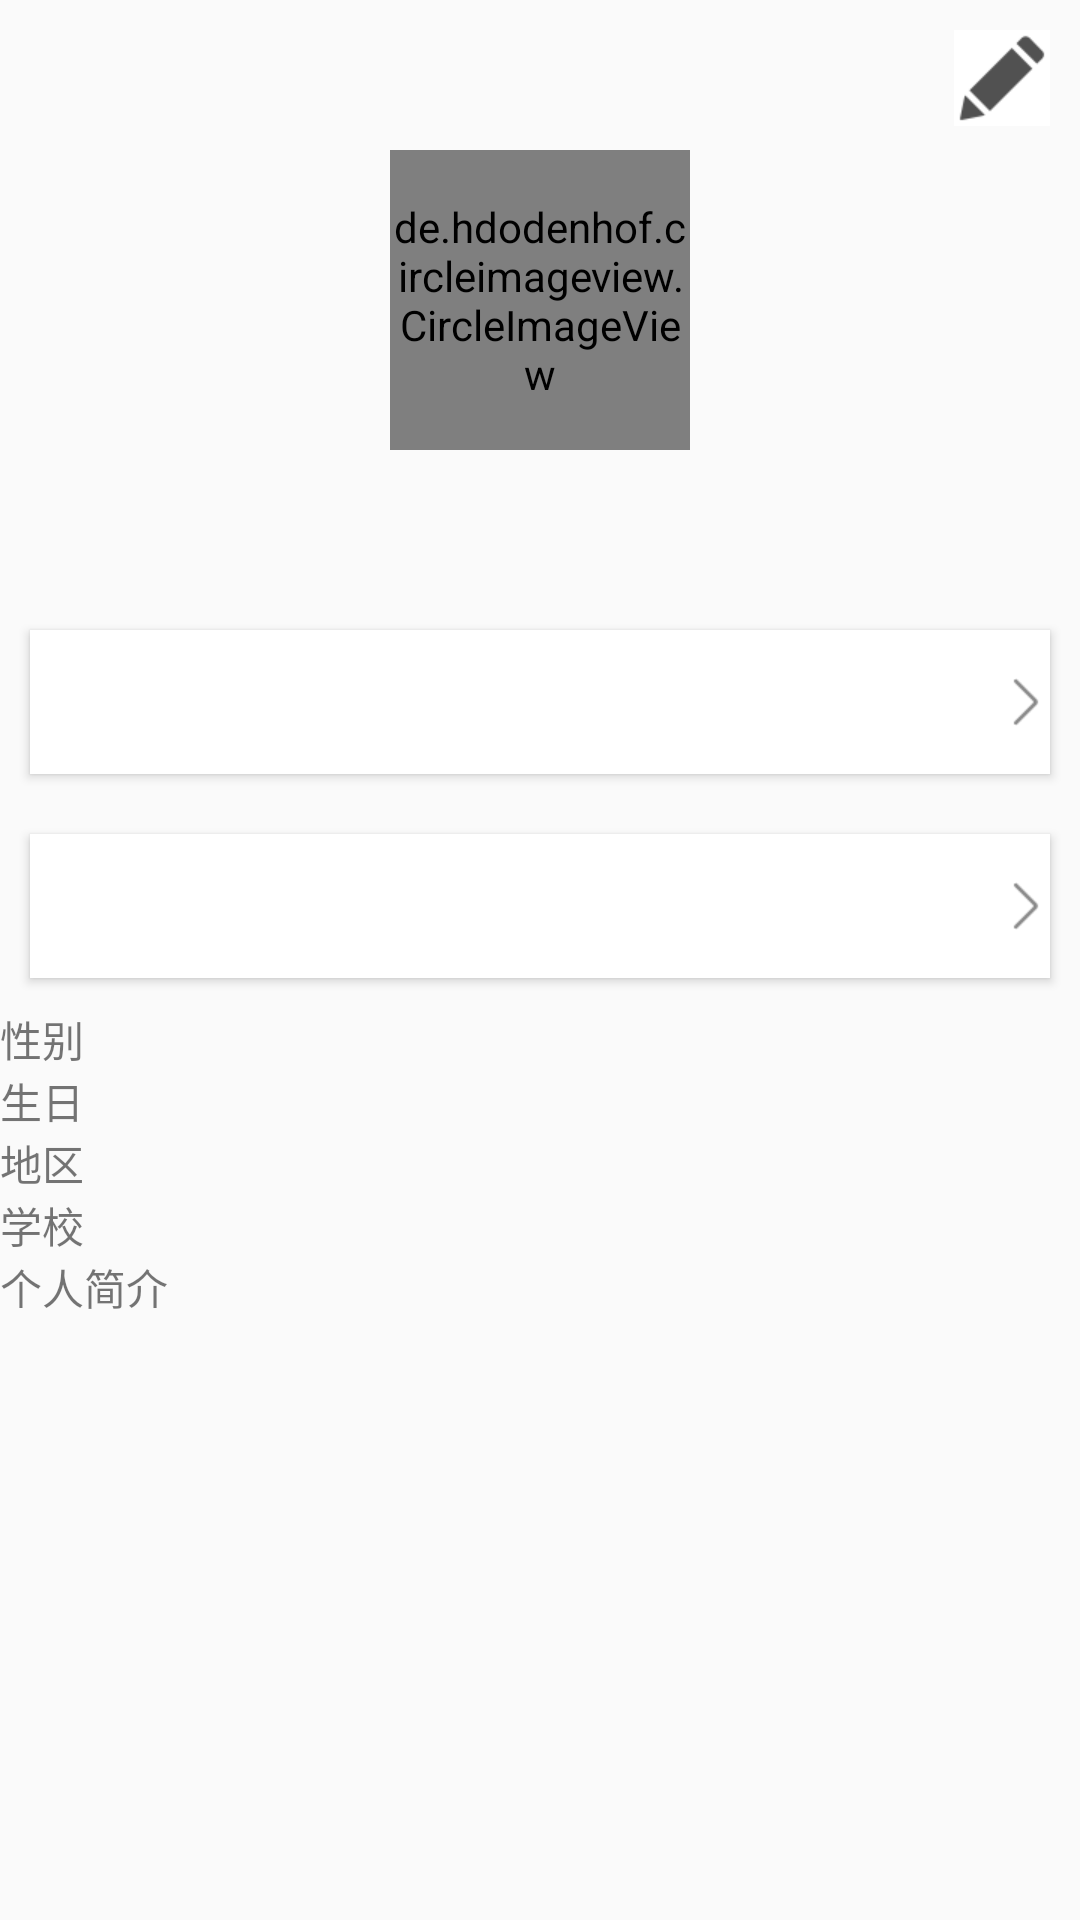

Icons on this 1080 × 1920 Android screen, each with the point to tap as [x,y]:
pencil: [1002,78]
